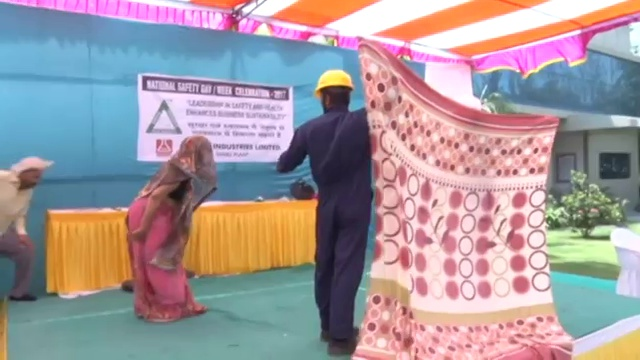helmet: (313, 70, 356, 96)
helmet_off: (11, 154, 50, 190), (181, 133, 216, 166)
helmet_on: (311, 69, 355, 114)
person: (272, 68, 370, 354), (121, 137, 218, 329), (1, 154, 59, 306)
